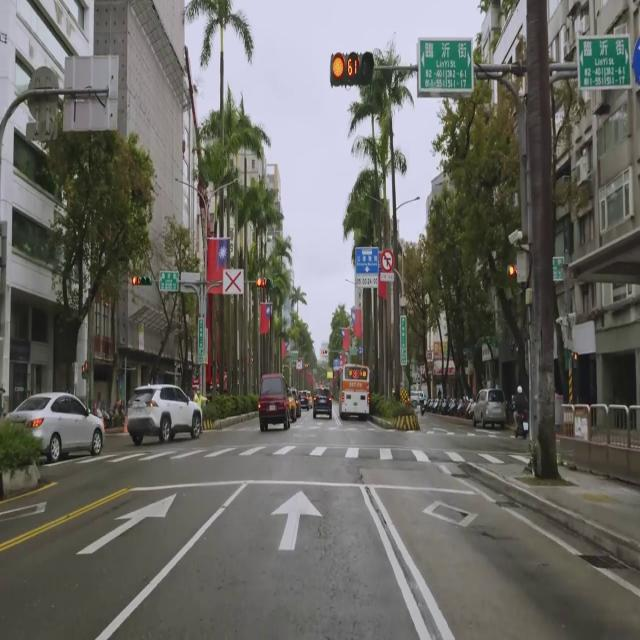red light: (331, 52, 374, 84), (256, 276, 272, 289), (132, 275, 151, 285)
